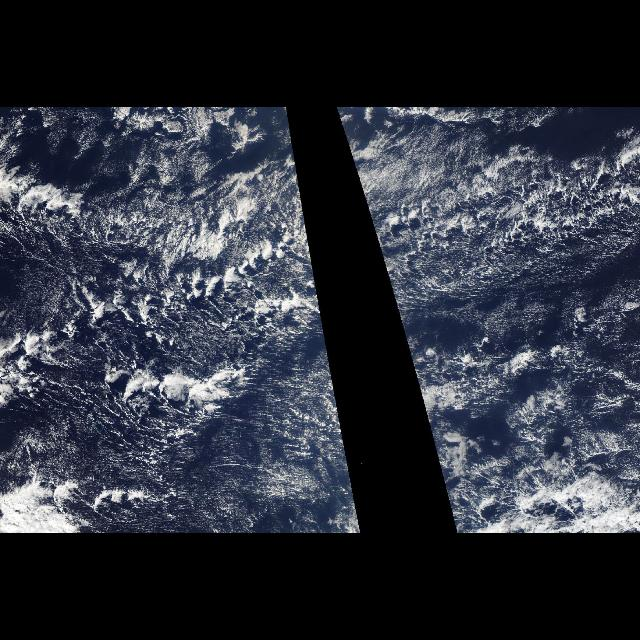Fish: (0, 154, 338, 442)
Gravel: (2, 188, 320, 358), (351, 154, 639, 298)
Sugar: (56, 322, 360, 530), (5, 109, 224, 180), (2, 238, 64, 336), (434, 442, 442, 476)
